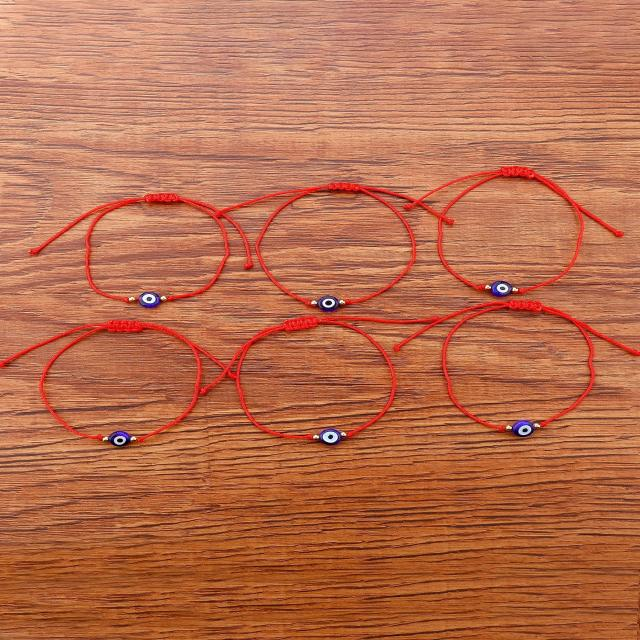bracelet: (32, 121, 254, 322), (425, 111, 640, 307), (5, 302, 256, 460), (419, 293, 637, 454), (233, 150, 433, 324), (225, 310, 432, 466)
